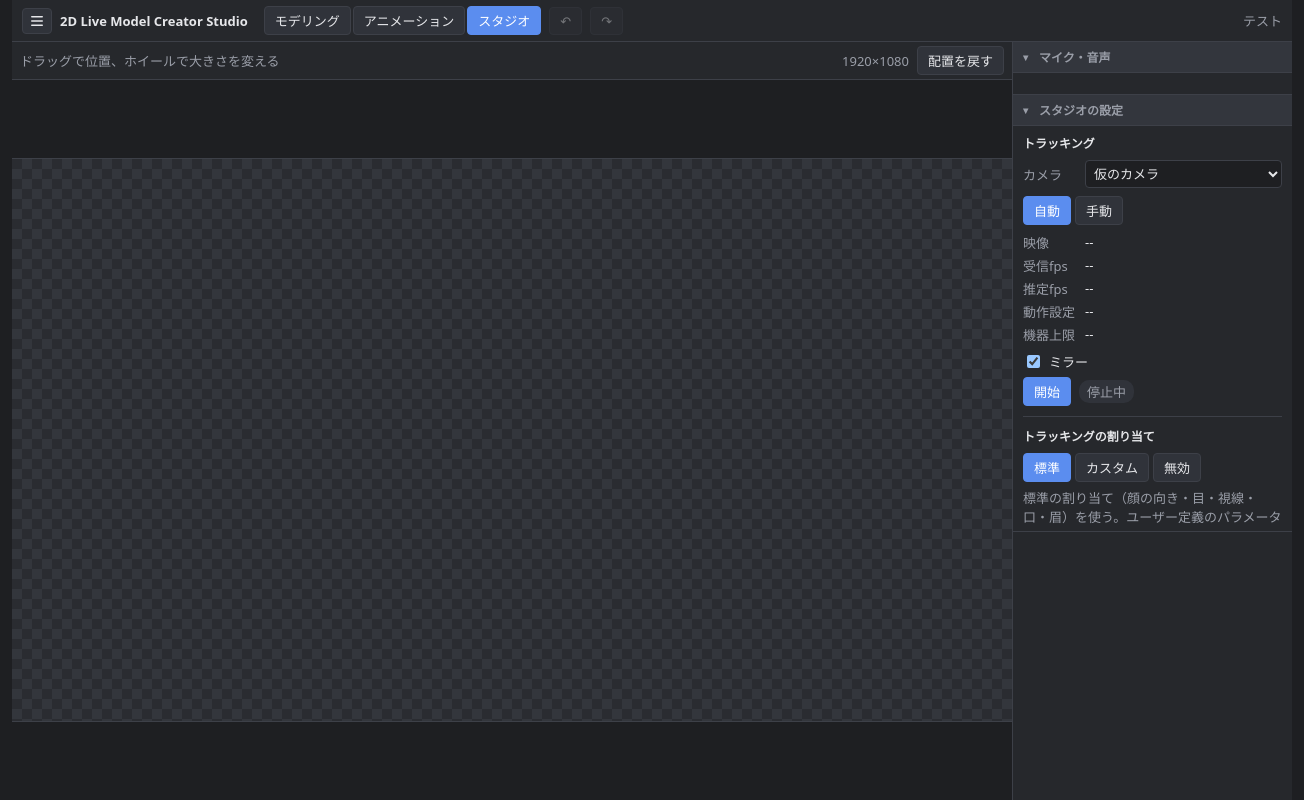
Test: トラッキングの割り当て（I-042） › 標準・カスタム・無効を選べ、カスタムにすると標準の割り当てから編集できる（1回の操作で1回の Undo）
Click the button "カスタム" at (1112, 468), box [1075, 453, 1149, 482]
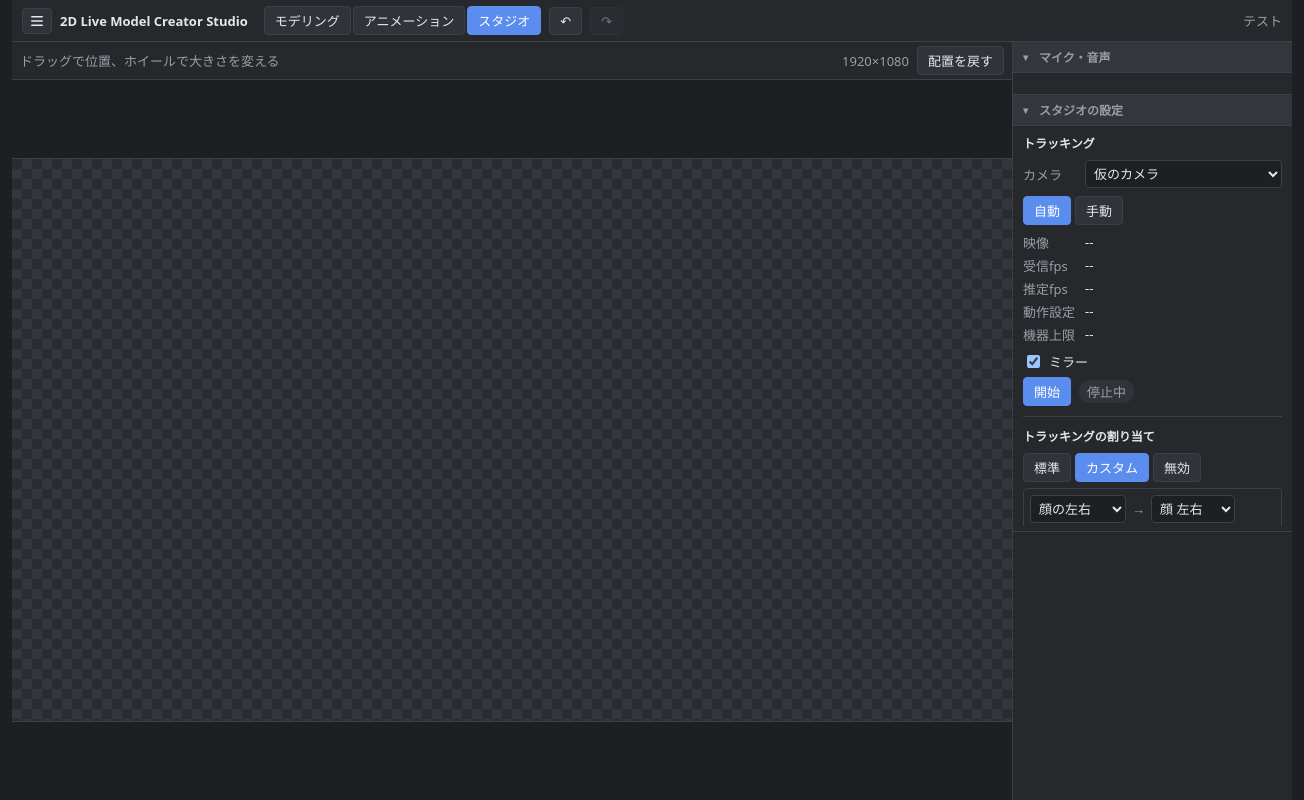
Expected: the heading "トラッキングの割り当て" is shown, [1023, 428, 1155, 445]
Click the button "無効" at (1177, 468), box [1153, 453, 1201, 482]
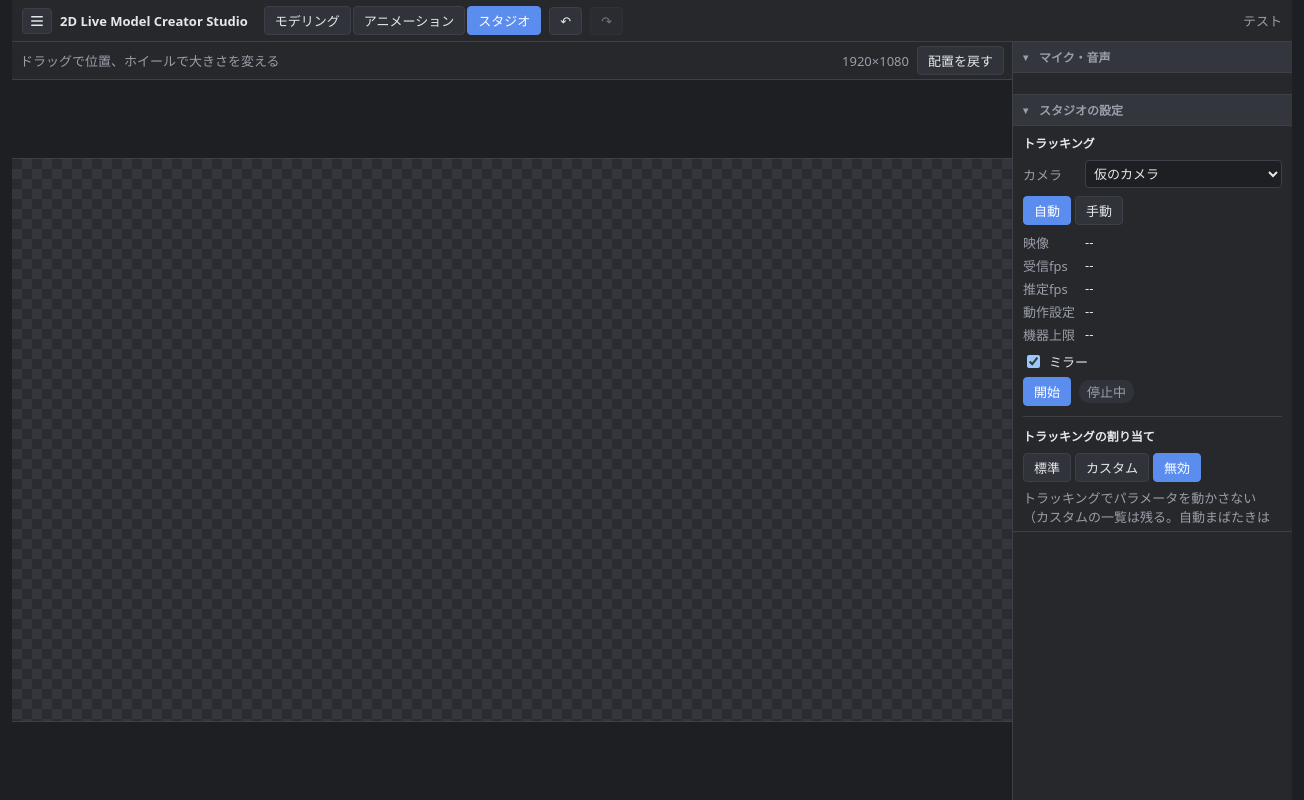
Now the text "トラッキングでパラメータを動かさない（カスタムの一覧は残る。自動まばたきは目のトラッキングの設定のまま）" is shown, box [1023, 488, 1282, 526]
